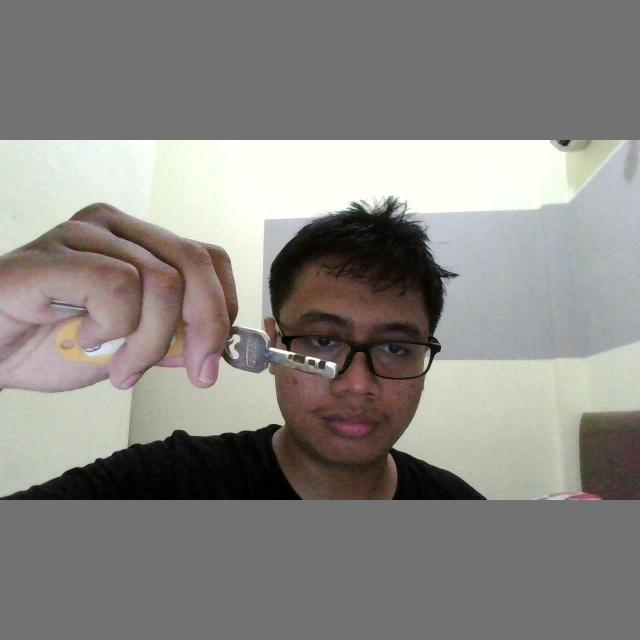Keys: (223, 318, 343, 386)
